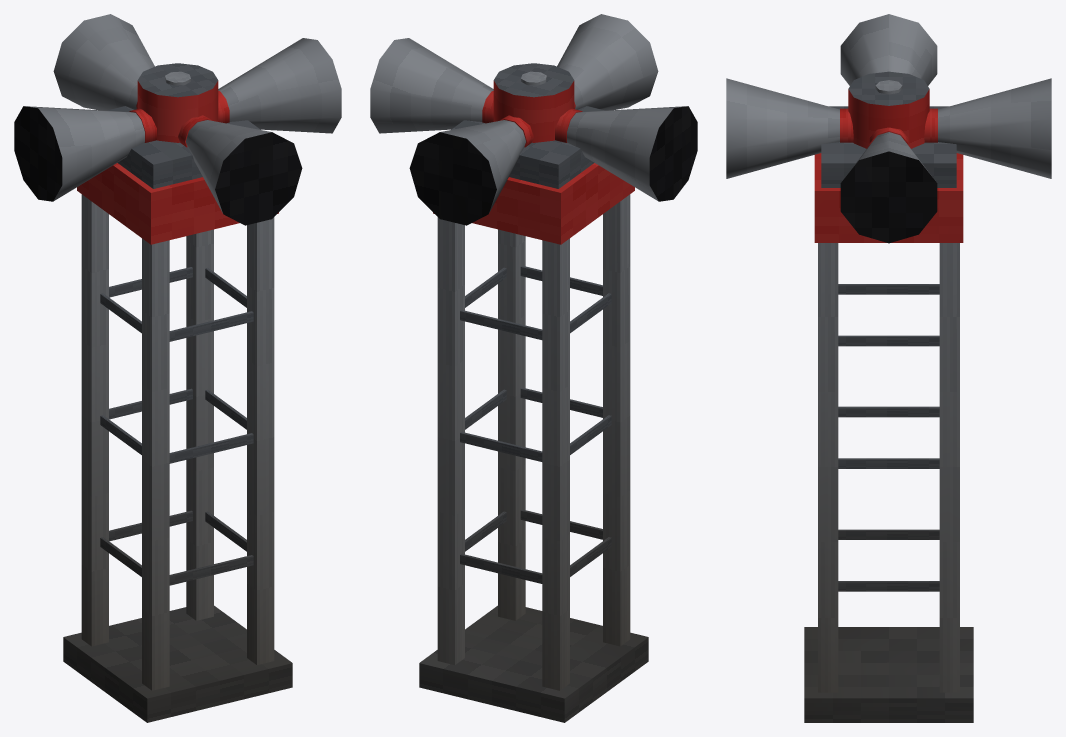
File: siren.glb
The picture shows the model from 3 angles, left to right: view 1: azimuth 30°, elevation 25°; view 2: azimuth 150°, elevation 25°; view 3: azimuth 270°, elevation 25°; orthographic projection.
Parts seen in each view (by area): view 1: root, horns; view 2: root, horns; view 3: root, horns.
Part boxes in pixels (<box>): root: <box>63,71,292,722</box>; horns: <box>14,14,341,225</box>; root: <box>419,71,648,722</box>; horns: <box>370,14,697,225</box>; root: <box>804,80,973,722</box>; horns: <box>726,14,1051,243</box>.
Size of the model in its own units: 0.96 by 1.97 by 0.96.
1 material, 1 textured.
